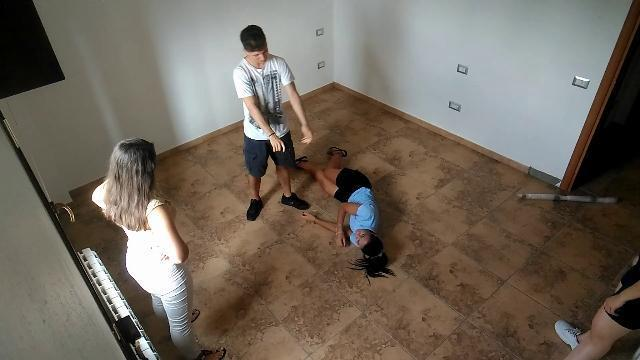non-violence: (90, 137, 230, 359), (555, 255, 640, 358)
violence: (230, 23, 396, 274)
weapon: (281, 140, 296, 160)
